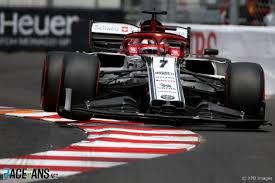FormulaOneCar: (39, 8, 270, 133)
